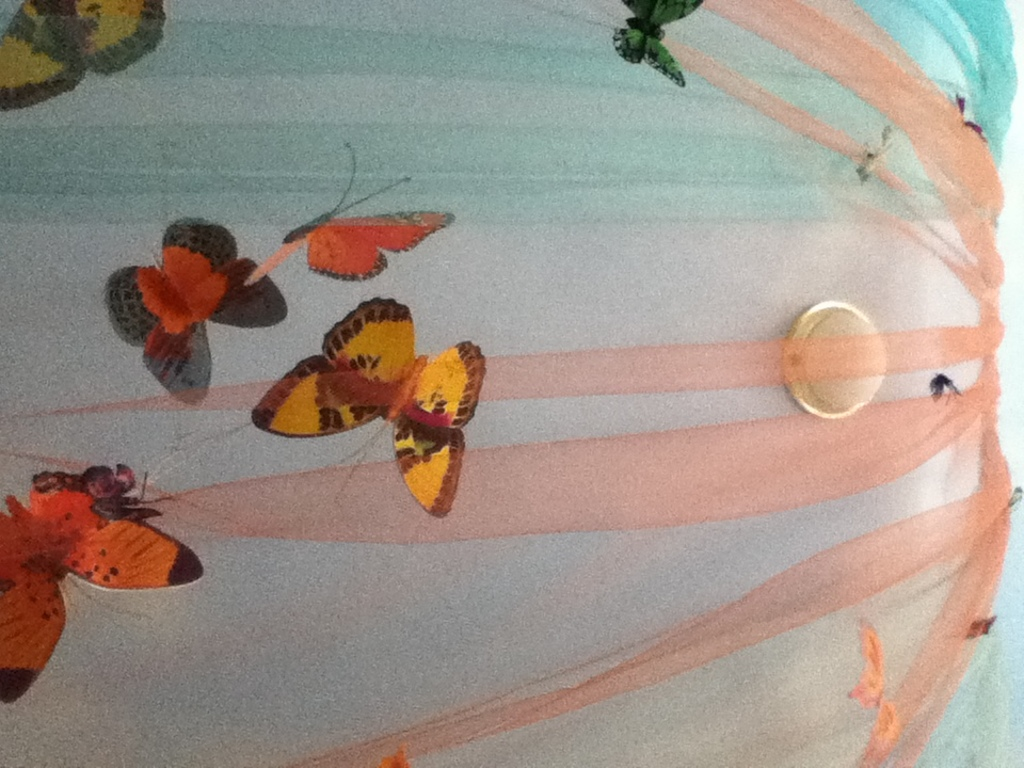Butterfly: (251, 291, 492, 535), (1, 435, 180, 700), (95, 195, 294, 403)
